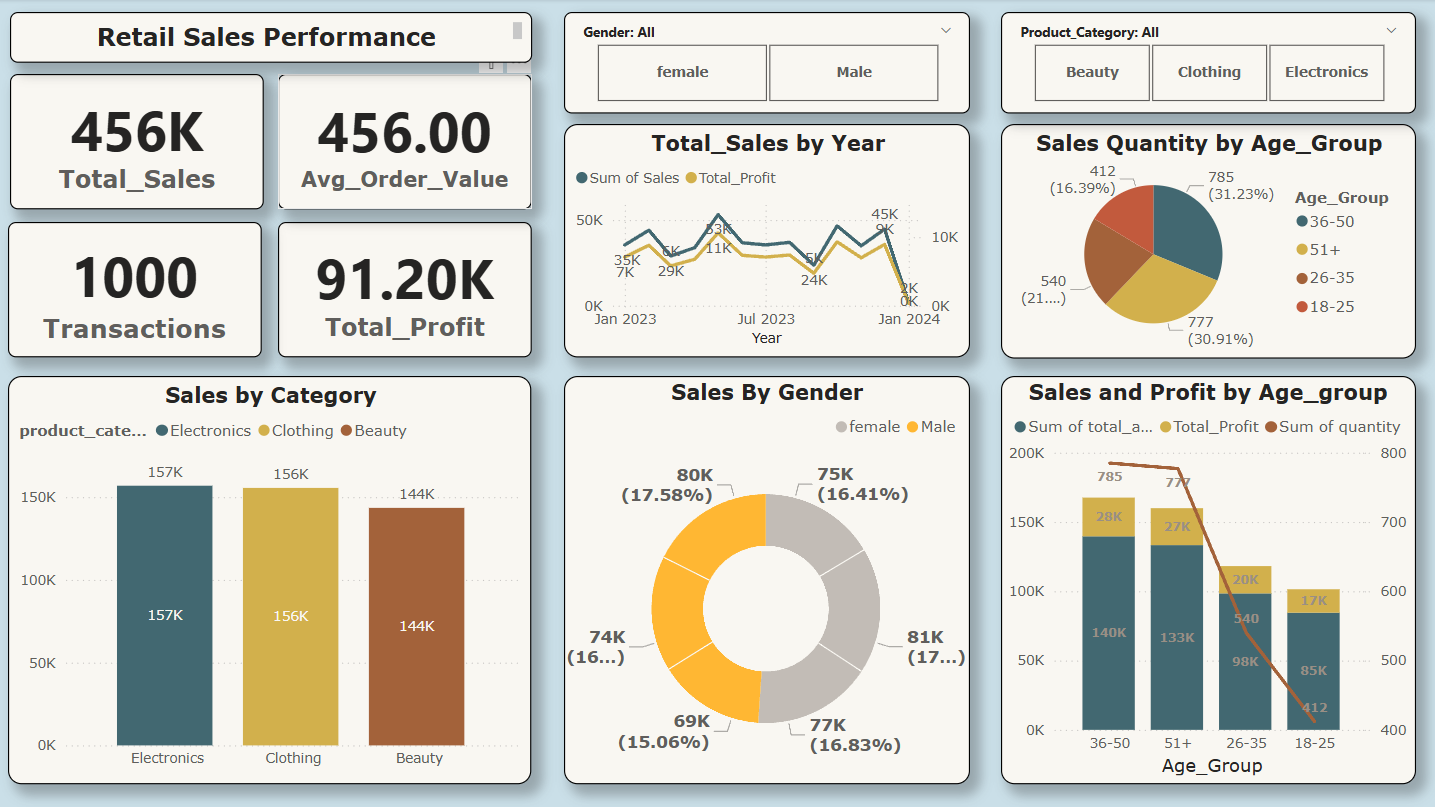

This screenshot's page, from the dashboard's own definition file:
{"tool":"powerbi","page":{"name":"Page 1","canvas":[1280,720],"ordinal":0},"visuals":[{"type":"card","title":"💰 Total Profit","fields":{"Values":["Sum(retail_sales_dataset.total_amount)"]},"box":[10.7,66.3,225,120],"z":0},{"type":"card","fields":{"Values":["retail_sales_dataset.Total_Profit"]},"box":[248,197.3,225.4,120.4],"z":1000},{"type":"card","fields":{"Values":["Count(retail_sales_dataset.transaction_id)"]},"box":[9.1,197.3,225,120.4],"z":2000},{"type":"card","fields":{"Values":["retail_sales_dataset.avarage"]},"box":[248,66.1,225.4,120.4],"z":3000},{"type":"textbox","box":[10.9,11.8,462.6,45.3],"z":4000},{"type":"columnChart","title":"Sales by Category ","fields":{"Category":["retail_sales_dataset.product_category"],"Y":["Sum(retail_sales_dataset.total_amount)"],"Series":["retail_sales_dataset.product_category"]},"box":[9.1,334,464.4,362.1],"z":5000},{"type":"pieChart","title":"Sales Quantity by Age_Group","fields":{"Category":["retail_sales_dataset.Age_Group"],"Y":["Sum(retail_sales_dataset.quantity)"]},"box":[888.9,110.4,367.5,208.2],"z":6000},{"type":"slicer","fields":{"Values":["retail_sales_dataset.gender"]},"box":[501.5,11.8,360.3,89.6],"z":7000},{"type":"slicer","fields":{"Values":["retail_sales_dataset.product_category"]},"box":[888.9,11.8,367.5,89.6],"z":8000},{"type":"lineChart","title":"Total_Sales by Year ","fields":{"Y":["Sum(retail_sales_dataset.total_amount)"],"Y2":["retail_sales_dataset.Total_Profit"],"Category":["retail_sales_dataset.date.Variation.Date Hierarchy.Year","retail_sales_dataset.date.Variation.Date Hierarchy.Month"]},"box":[501.5,110.4,360.3,207.3],"z":9000},{"type":"donutChart","title":"Sales By Gender","fields":{"Y":["Sum(retail_sales_dataset.total_amount)"],"Category":["retail_sales_dataset.gender"],"Series":["retail_sales_dataset.product_category"]},"box":[501.5,334,360.3,362.1],"z":10000},{"type":"lineStackedColumnComboChart","title":"Sales and Profit by Age_group","fields":{"Category":["retail_sales_dataset.Age_Group"],"Y":["Sum(retail_sales_dataset.total_amount)","retail_sales_dataset.Total_Profit"],"Y2":["Sum(retail_sales_dataset.quantity)"]},"box":[888.9,334,367.5,362.1],"z":11000}]}

Visuals, with their boxes in screenshot pixels (x1, y1, x2, y2), scaled from the page's 1280x720 canvas onto the 1435x807 screenshot:
"💰 Total Profit" card: {"left": 12, "top": 74, "right": 264, "bottom": 209}
card - retail_sales_dataset.Total_Profit: {"left": 278, "top": 221, "right": 531, "bottom": 356}
card - Count(retail_sales_dataset.transaction_id): {"left": 10, "top": 221, "right": 262, "bottom": 356}
card - retail_sales_dataset.avarage: {"left": 278, "top": 74, "right": 531, "bottom": 209}
textbox: {"left": 12, "top": 13, "right": 531, "bottom": 64}
"Sales by Category " columnChart: {"left": 10, "top": 374, "right": 531, "bottom": 780}
"Sales Quantity by Age_Group" pieChart: {"left": 997, "top": 124, "right": 1409, "bottom": 357}
slicer - retail_sales_dataset.gender: {"left": 562, "top": 13, "right": 966, "bottom": 114}
slicer - retail_sales_dataset.product_category: {"left": 997, "top": 13, "right": 1409, "bottom": 114}
"Total_Sales by Year " lineChart: {"left": 562, "top": 124, "right": 966, "bottom": 356}
"Sales By Gender" donutChart: {"left": 562, "top": 374, "right": 966, "bottom": 780}
"Sales and Profit by Age_group" lineStackedColumnComboChart: {"left": 997, "top": 374, "right": 1409, "bottom": 780}
